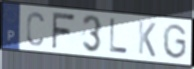3: (78, 14, 105, 54)
C: (26, 10, 46, 48)
F: (50, 11, 76, 50)
G: (161, 22, 188, 61)
K: (137, 20, 158, 60)
L: (109, 17, 129, 56)
